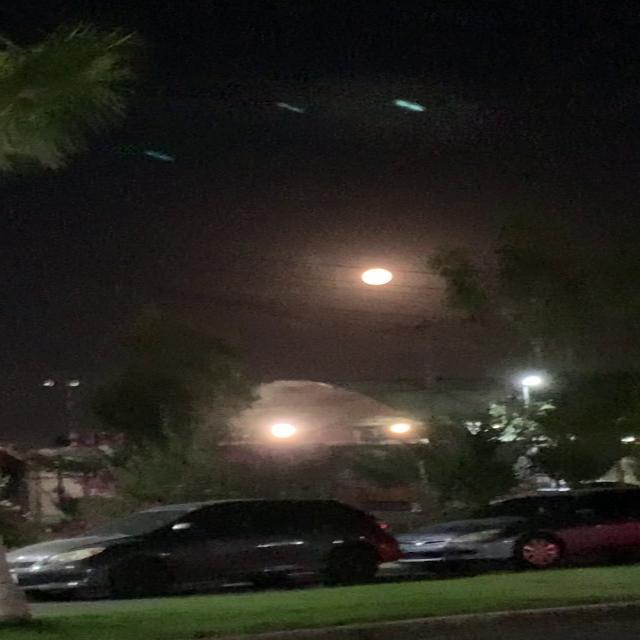moon: (341, 266, 394, 292)
